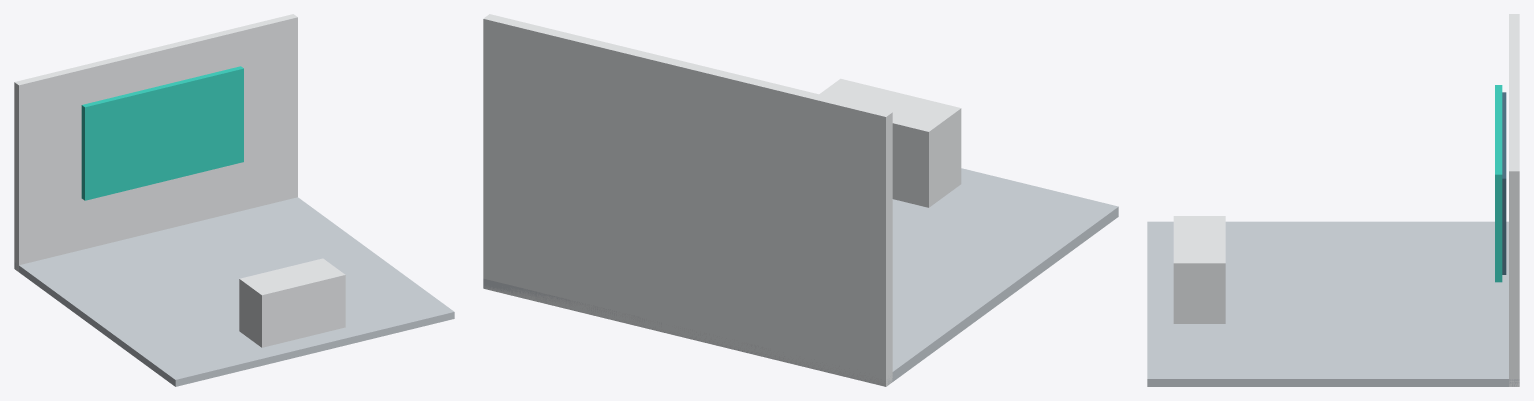
3 views of the same model, side by side, from view 1: azimuth 30°, elevation 25°; view 2: azimuth 150°, elevation 25°; view 3: azimuth 270°, elevation 25° (orthographic). The views are drawn at different scales.
Visible parts, largest first — view 1: Exhibition Booth Concept; view 2: Exhibition Booth Concept; view 3: Exhibition Booth Concept.
Boxes of the visible parts, bbox=[...] form: Exhibition Booth Concept: bbox=[14, 14, 454, 386]; Exhibition Booth Concept: bbox=[483, 14, 1118, 386]; Exhibition Booth Concept: bbox=[1147, 14, 1519, 386].
Bounding box in the file's own units: 5 × 3.2 × 5.
